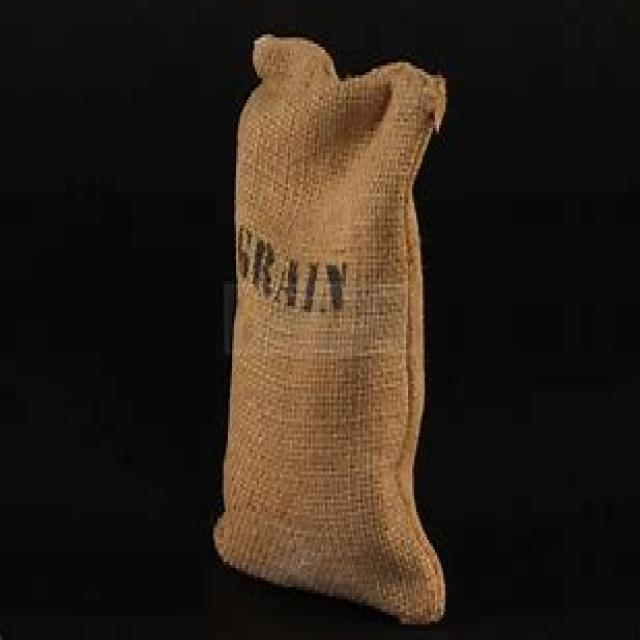gunny_bag: (212, 33, 448, 628)
